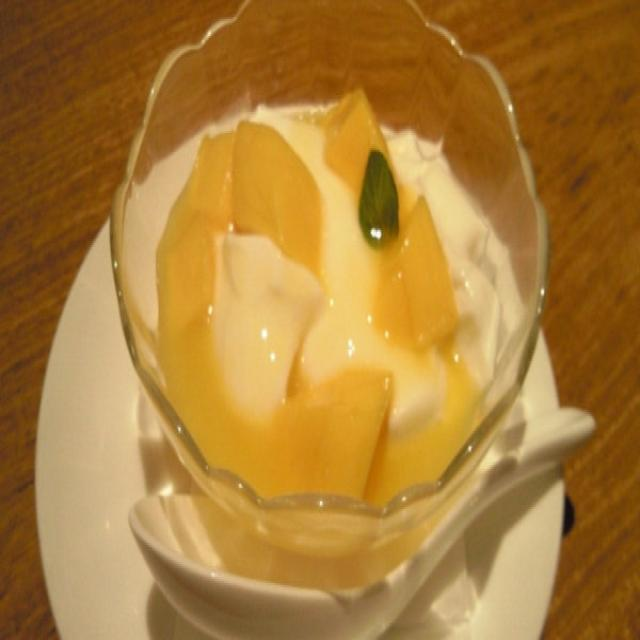熟制海鲜: (114, 100, 546, 640)
